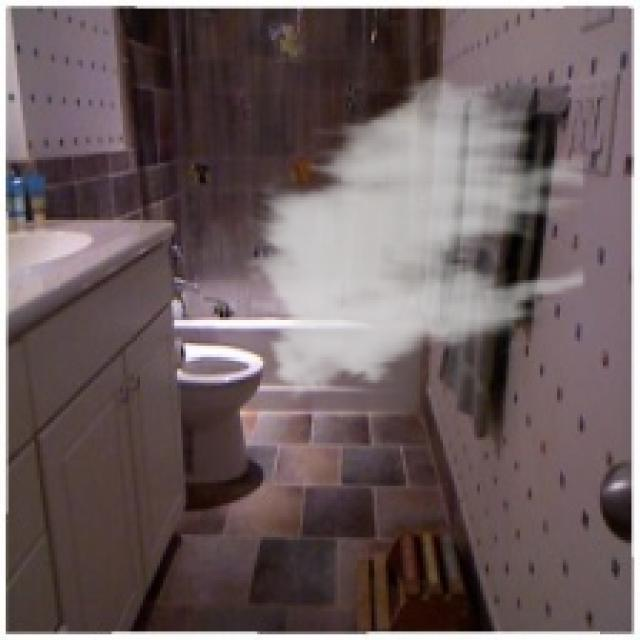Smoke: (243, 66, 586, 408)
